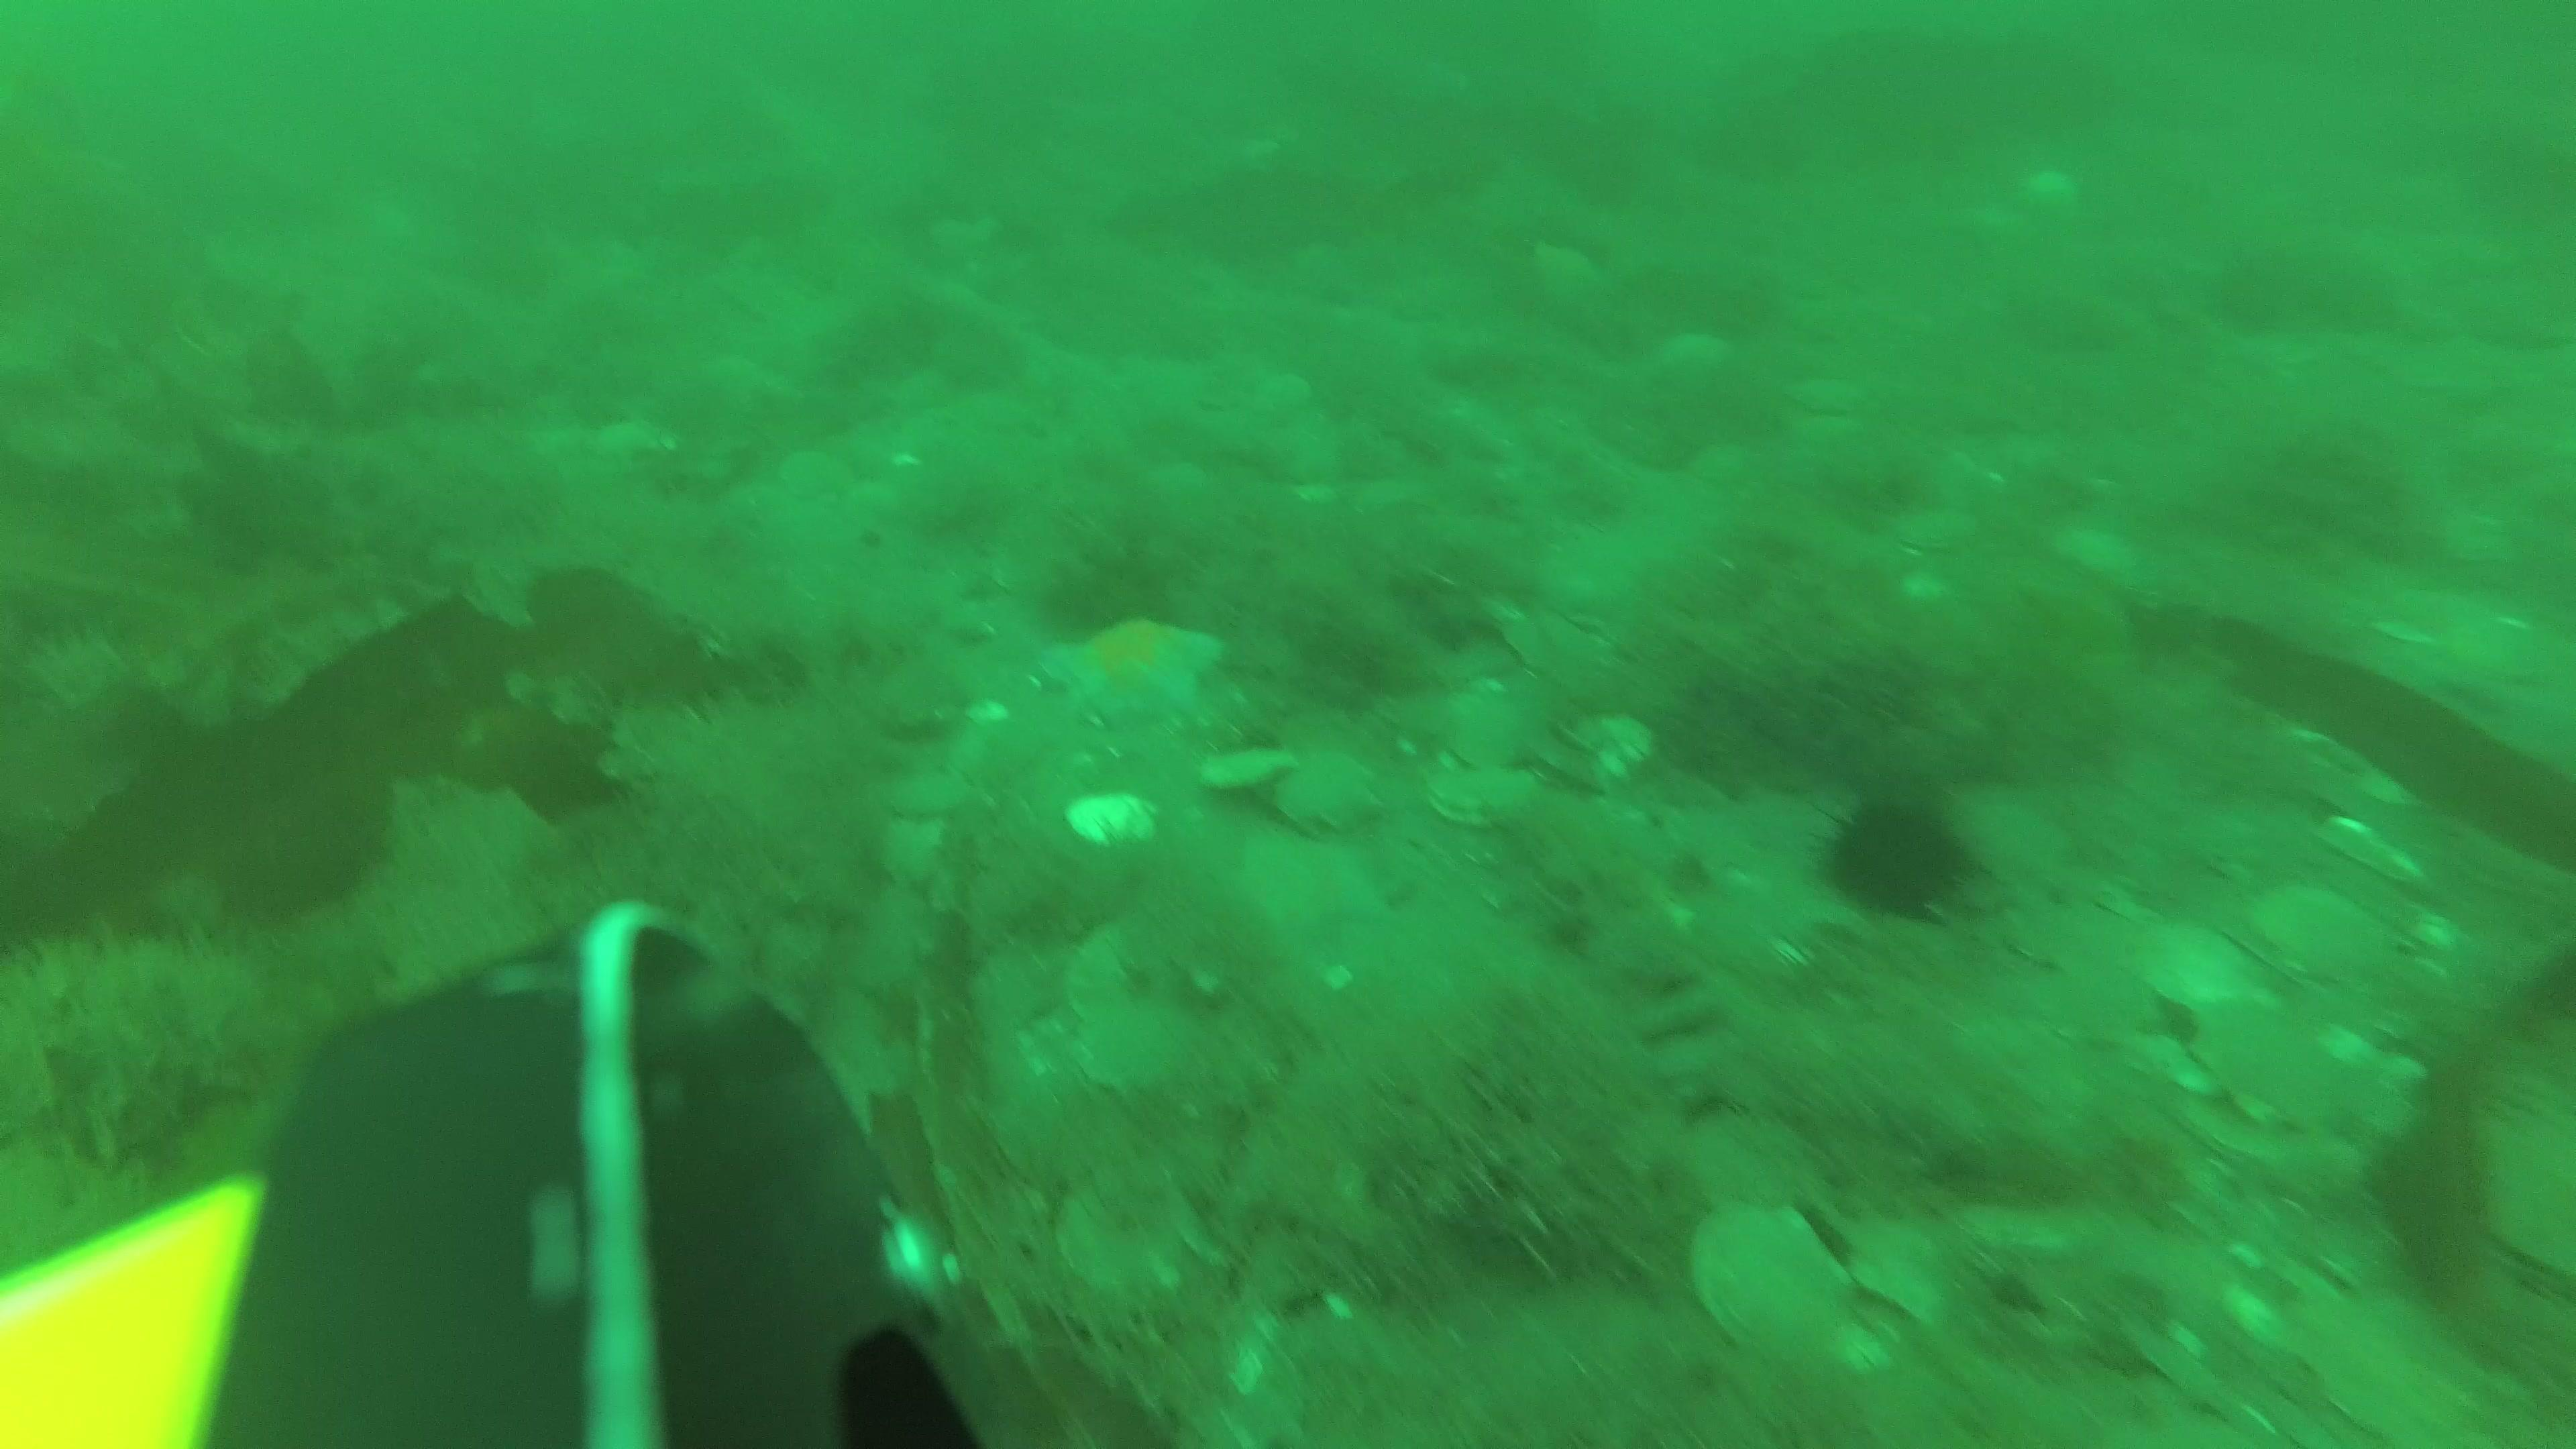echinus: (1805, 778, 1982, 922)
scallop: (2282, 1272, 2477, 1445), (1684, 1191, 1861, 1364), (2176, 987, 2365, 1134), (2256, 869, 2404, 1003), (1053, 1171, 1200, 1299), (2134, 913, 2275, 1024), (1263, 743, 1387, 844), (1067, 1001, 1194, 1095), (2006, 888, 2135, 975), (1490, 609, 1605, 690), (1424, 763, 1548, 832), (1541, 709, 1658, 782), (1063, 918, 1143, 1016), (1058, 786, 1168, 849), (1189, 740, 1311, 796), (1891, 495, 1990, 563), (872, 814, 952, 893), (773, 441, 860, 506), (1787, 368, 1881, 423), (886, 770, 970, 816), (1249, 366, 1313, 421)
starfish: (1226, 826, 1405, 957), (1037, 609, 1224, 732)
